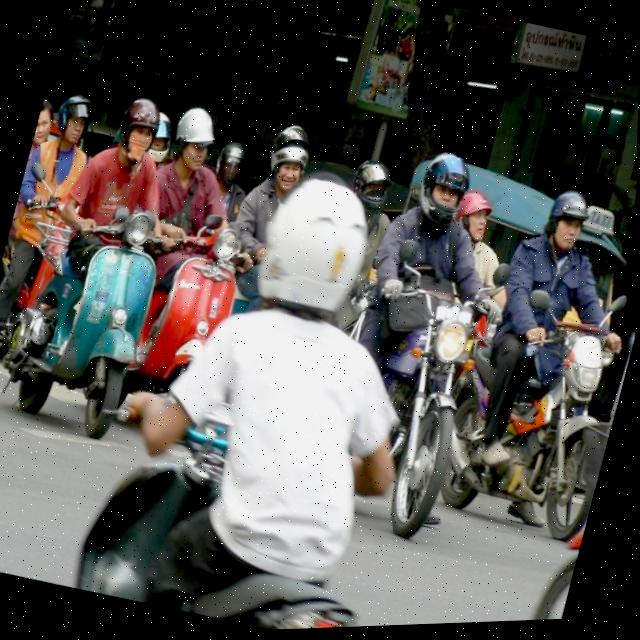motorcycle: (56, 279, 408, 638), (336, 271, 511, 560), (15, 191, 185, 452), (424, 300, 599, 549), (110, 204, 260, 458), (521, 346, 629, 554), (0, 185, 78, 405)
